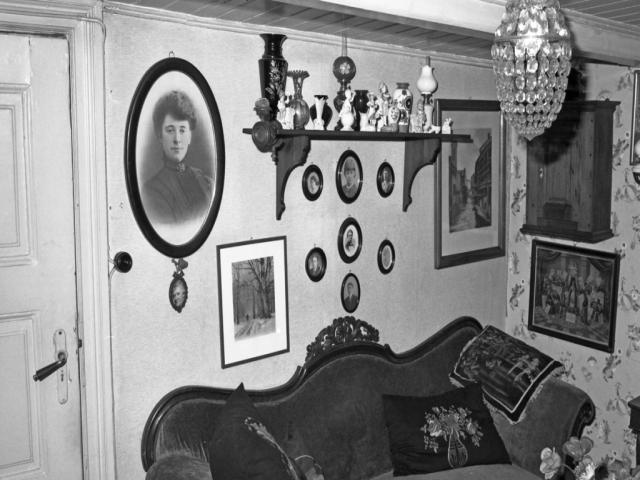Door-handle: (32, 329, 69, 405)
